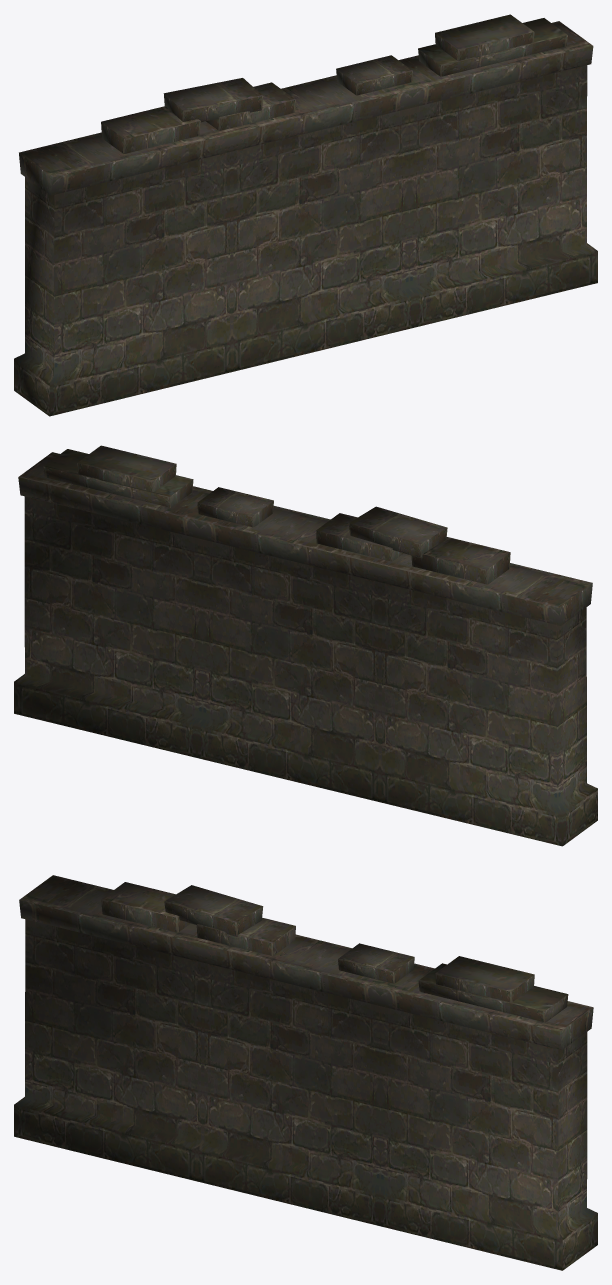
Rendered from S_Build_Forest068.FBX.
3 renders of one model, top to bottom at view 1: azimuth 30°, elevation 25°; view 2: azimuth 150°, elevation 25°; view 3: azimuth 330°, elevation 25°, orthographic.
Visible parts, largest first — view 1: S_Build_Forest068; view 2: S_Build_Forest068; view 3: S_Build_Forest068.
Part boxes in pixels (x1,y1,x2,y2): S_Build_Forest068: (14, 14, 597, 416); S_Build_Forest068: (14, 445, 597, 846); S_Build_Forest068: (14, 875, 597, 1270).
Size of the model in its own units: 1442 by 163 by 666.
